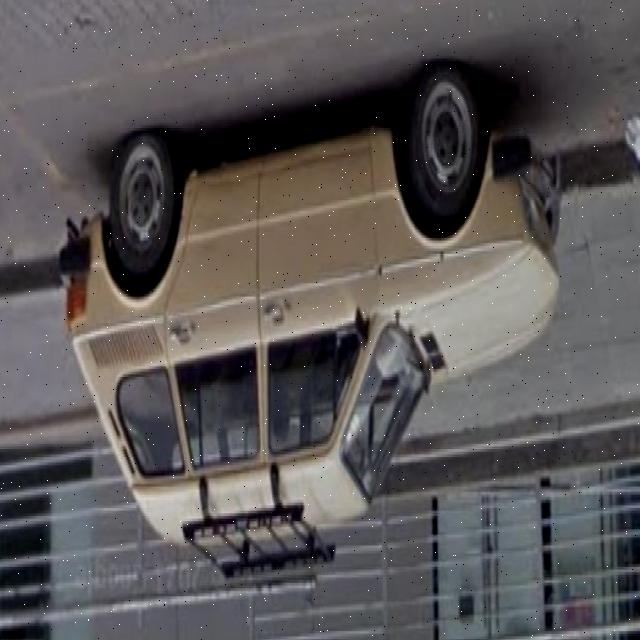car: (52, 64, 615, 586)
